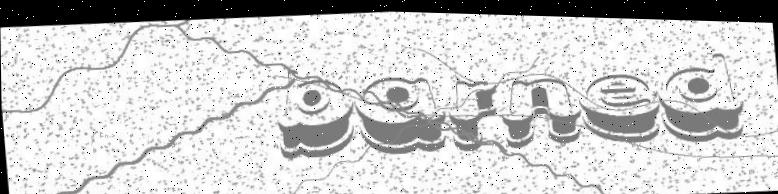a: (349, 69, 446, 157)
b: (272, 69, 355, 160)
d: (655, 46, 751, 139)
e: (576, 63, 665, 143)
n: (496, 65, 583, 151)
r: (444, 70, 503, 152)
